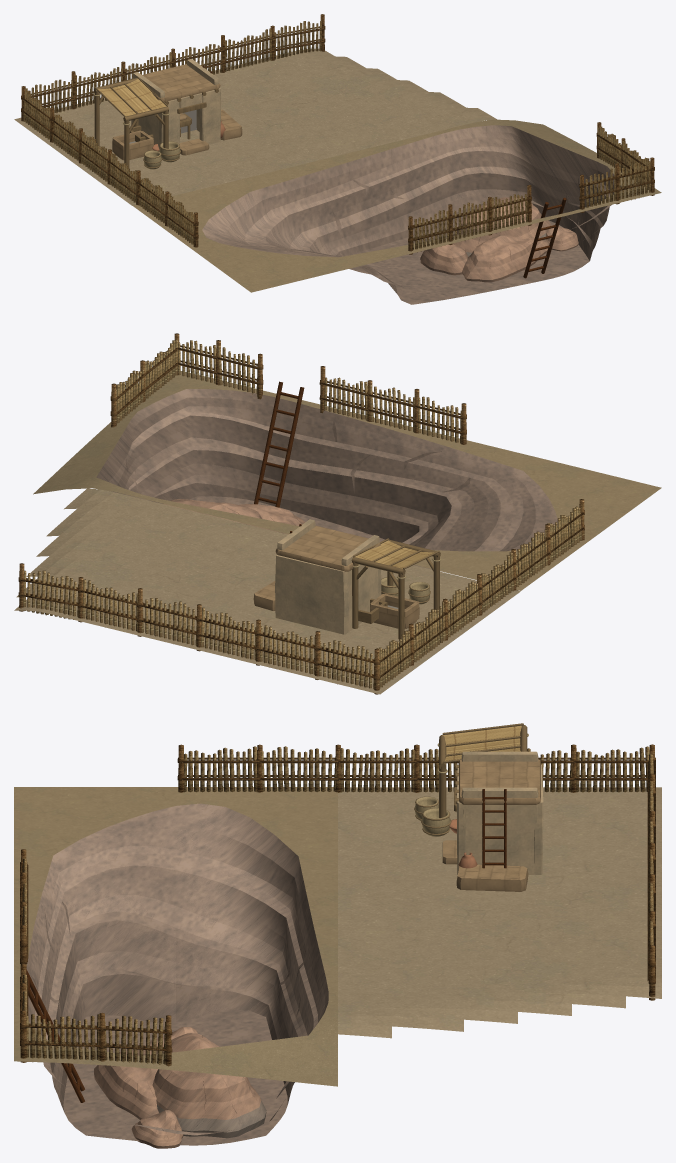
File: clay.glb
The picture shows the model from 3 angles, top to bottom: view 1: azimuth 30°, elevation 25°; view 2: azimuth 150°, elevation 25°; view 3: azimuth 270°, elevation 25°; orthographic projection. The views are drawn at different scales.
Parts seen in each view (by area): view 1: excavated-clay-bowl-16-13, quarry-yard-ground, bound-reed-quarry-fence, excavated-clay-rim-16-13, excavated-clay-deposit, original-clay-game-raw-brick-facing, original-clay-warm-clay-plaster, original-clay-worn-timber, original-clay-laid-reed-thatch, excavated-clay-ladder-16-13, original-clay-reed-mat; view 2: excavated-clay-bowl-16-13, quarry-yard-ground, bound-reed-quarry-fence, excavated-clay-rim-16-13, original-clay-warm-clay-plaster, original-clay-game-raw-brick-facing, original-clay-worn-timber, excavated-clay-ladder-16-13, excavated-clay-deposit, original-clay-laid-reed-thatch, original-clay-reed-mat; view 3: excavated-clay-bowl-16-13, quarry-yard-ground, excavated-clay-rim-16-13, bound-reed-quarry-fence, excavated-clay-deposit, original-clay-warm-clay-plaster, original-clay-game-raw-brick-facing, original-clay-worn-timber, original-clay-laid-reed-thatch, excavated-clay-ladder-16-13, original-clay-reed-mat, roof-access-clay.
Part boxes in pixels (bbox=[...]): excavated-clay-bowl-16-13: bbox=[202, 125, 621, 304]; quarry-yard-ground: bbox=[14, 48, 496, 205]; bound-reed-quarry-fence: bbox=[21, 14, 654, 254]; excavated-clay-rim-16-13: bbox=[133, 119, 661, 292]; excavated-clay-deposit: bbox=[420, 197, 578, 282]; original-clay-game-raw-brick-facing: bbox=[112, 64, 242, 160]; original-clay-warm-clay-plaster: bbox=[131, 59, 220, 149]; original-clay-worn-timber: bbox=[93, 77, 218, 168]; original-clay-laid-reed-thatch: bbox=[98, 79, 166, 117]; excavated-clay-ladder-16-13: bbox=[523, 197, 566, 278]; original-clay-reed-mat: bbox=[93, 93, 180, 169]; excavated-clay-bowl-16-13: bbox=[96, 389, 557, 569]; quarry-yard-ground: bbox=[14, 488, 520, 694]; bound-reed-quarry-fence: bbox=[18, 333, 584, 694]; excavated-clay-rim-16-13: bbox=[33, 371, 661, 590]; original-clay-warm-clay-plaster: bbox=[275, 519, 381, 634]; original-clay-game-raw-brick-facing: bbox=[253, 525, 419, 628]; original-clay-worn-timber: bbox=[351, 538, 440, 639]; excavated-clay-ladder-16-13: bbox=[254, 381, 304, 507]; excavated-clay-deposit: bbox=[163, 499, 305, 534]; original-clay-laid-reed-thatch: bbox=[355, 540, 434, 568]; original-clay-reed-mat: bbox=[353, 558, 441, 604]; excavated-clay-bowl-16-13: bbox=[26, 803, 328, 1145]; quarry-yard-ground: bbox=[338, 787, 661, 1038]; excavated-clay-rim-16-13: bbox=[14, 787, 337, 1086]; bound-reed-quarry-fence: bbox=[20, 744, 655, 1066]; excavated-clay-deposit: bbox=[94, 1027, 266, 1148]; original-clay-warm-clay-plaster: bbox=[456, 751, 543, 874]; original-clay-game-raw-brick-facing: bbox=[442, 759, 540, 891]; original-clay-worn-timber: bbox=[414, 723, 527, 835]; original-clay-laid-reed-thatch: bbox=[442, 725, 521, 760]; excavated-clay-ladder-16-13: bbox=[26, 969, 84, 1102]; original-clay-reed-mat: bbox=[415, 733, 528, 836]; roof-access-clay: bbox=[482, 789, 506, 868].
Size of the model in its own units: 12 by 4.01 by 12.
11 materials, 10 textured.
